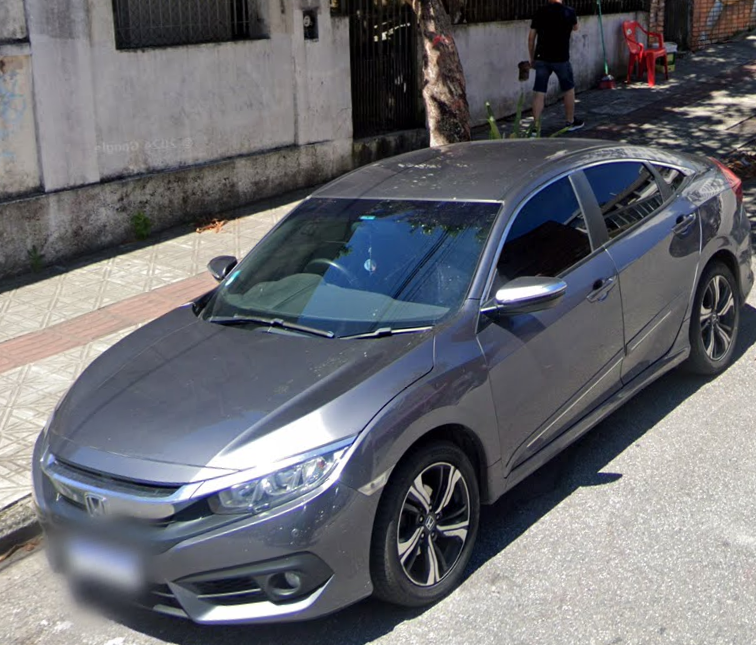car: (30, 135, 753, 623)
